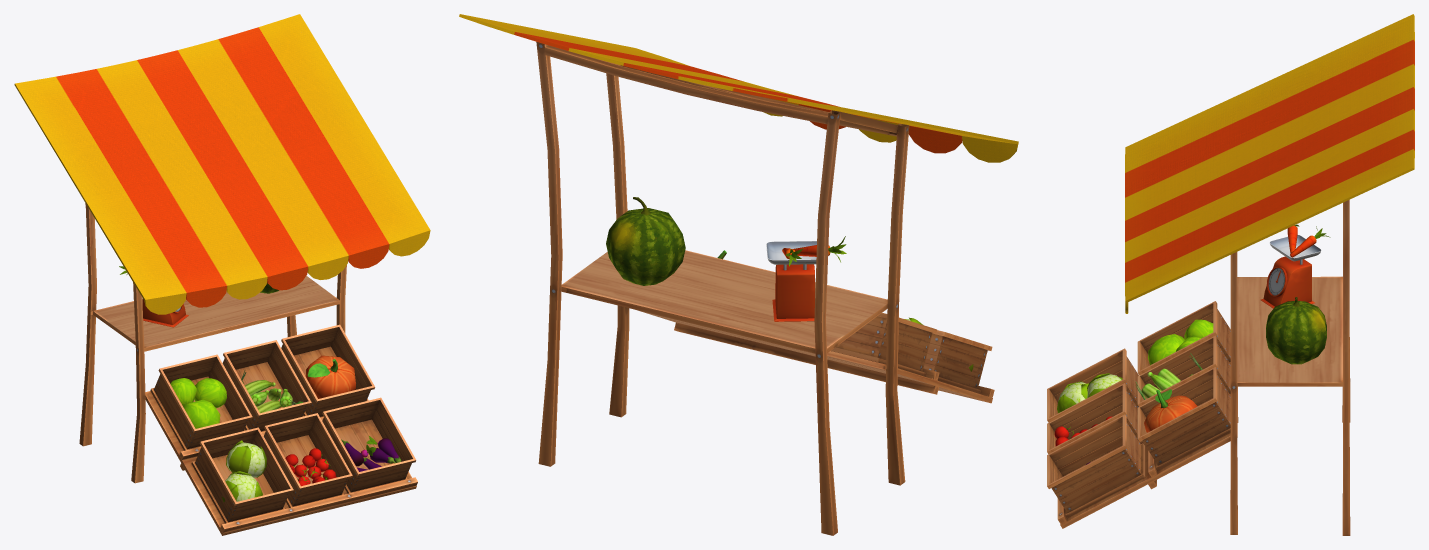
The model's file is Market01_2.FBX.
3 renders of one model, left to right at view 1: azimuth 30°, elevation 25°; view 2: azimuth 150°, elevation 25°; view 3: azimuth 270°, elevation 25°, orthographic. The views are drawn at different scales.
Parts seen in each view (by area): view 1: Market01_2; view 2: Market01_2; view 3: Market01_2.
Part boxes in pixels (left/top/right/bottom): Market01_2: left=14, top=14, right=430, bottom=535; Market01_2: left=459, top=14, right=1018, bottom=535; Market01_2: left=1047, top=14, right=1414, bottom=535.
Size of what is drawn, in the model's own units: 2.43 by 2.83 by 2.46.
